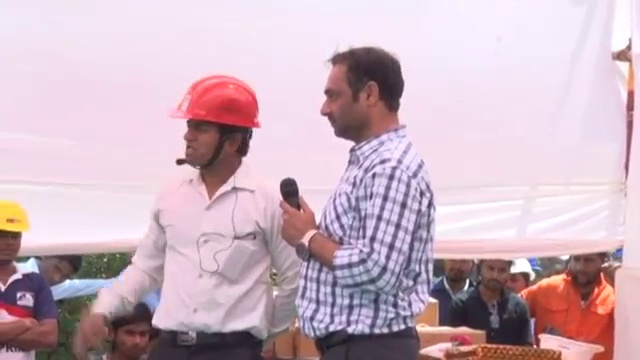helmet: (165, 69, 261, 131), (537, 331, 605, 360), (0, 197, 30, 237), (508, 257, 537, 281)
helmet_off: (319, 47, 413, 148), (103, 307, 159, 360), (36, 255, 82, 289), (477, 259, 515, 296), (570, 248, 607, 285), (441, 258, 473, 288)
helmet_on: (165, 69, 260, 184), (0, 198, 30, 271), (508, 258, 538, 296)
person: (76, 70, 302, 359), (277, 43, 452, 360), (0, 194, 56, 359), (530, 250, 622, 348), (447, 259, 535, 341), (426, 258, 476, 330)
